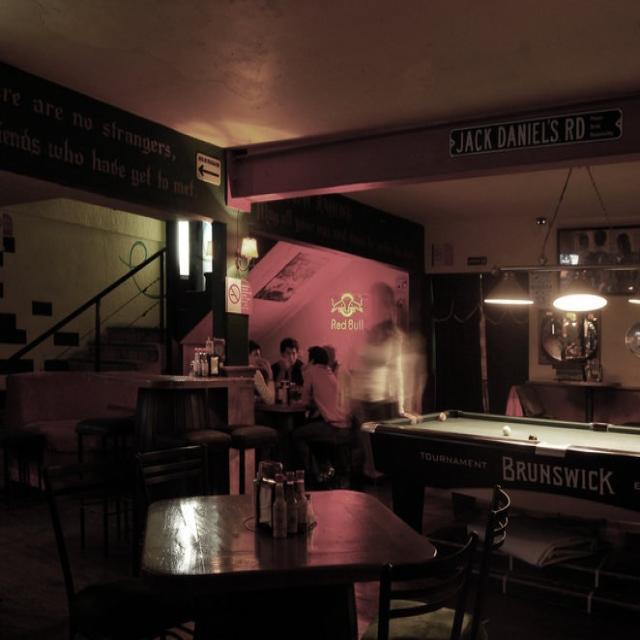People: (268, 330, 327, 431), (300, 335, 353, 434)
Table: (143, 485, 444, 635), (362, 394, 640, 542)
chair: (25, 420, 159, 640), (195, 375, 277, 463), (130, 373, 187, 458)
